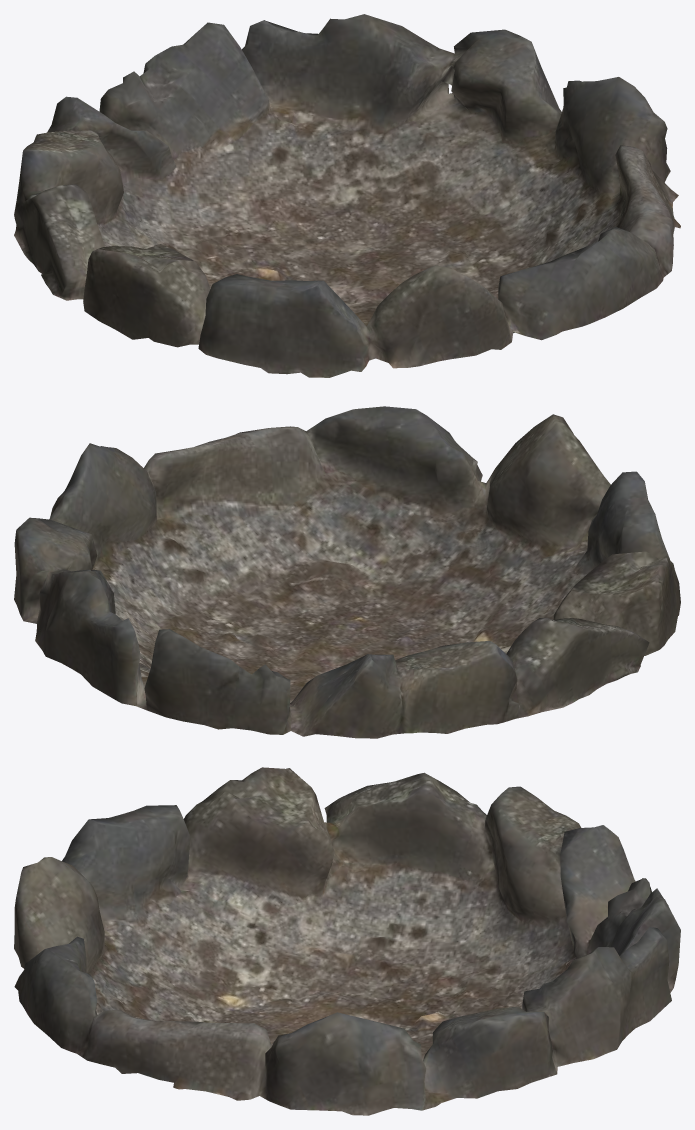
File: stone_fire_pit.glb
3 views of the same model, one above another, from view 1: azimuth 30°, elevation 25°; view 2: azimuth 150°, elevation 25°; view 3: azimuth 270°, elevation 25° (orthographic).
Visible parts, largest first — view 1: stone_fire_pit; view 2: stone_fire_pit; view 3: stone_fire_pit.
Part boxes in pixels (x1,y1,x2,y2): stone_fire_pit: (14, 14, 680, 377); stone_fire_pit: (14, 406, 680, 738); stone_fire_pit: (14, 767, 680, 1115).
Size of the model in its own units: 1.45 by 0.3883 by 1.43.
1 material, 1 textured.
